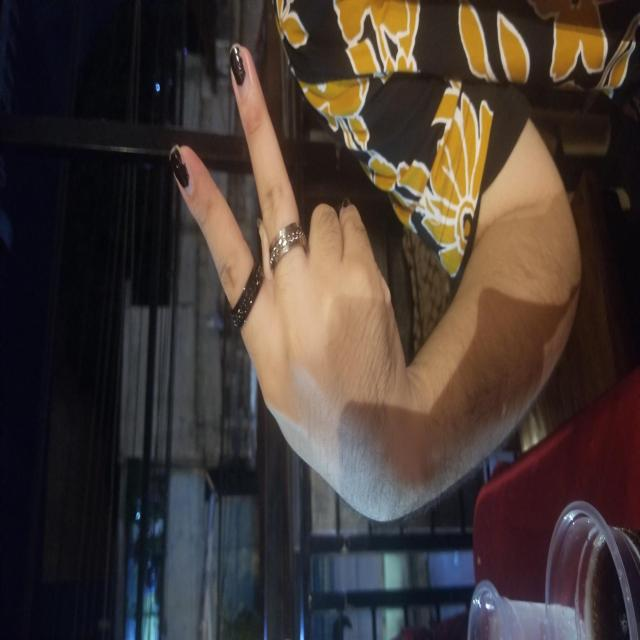K: (115, 170, 598, 402)
